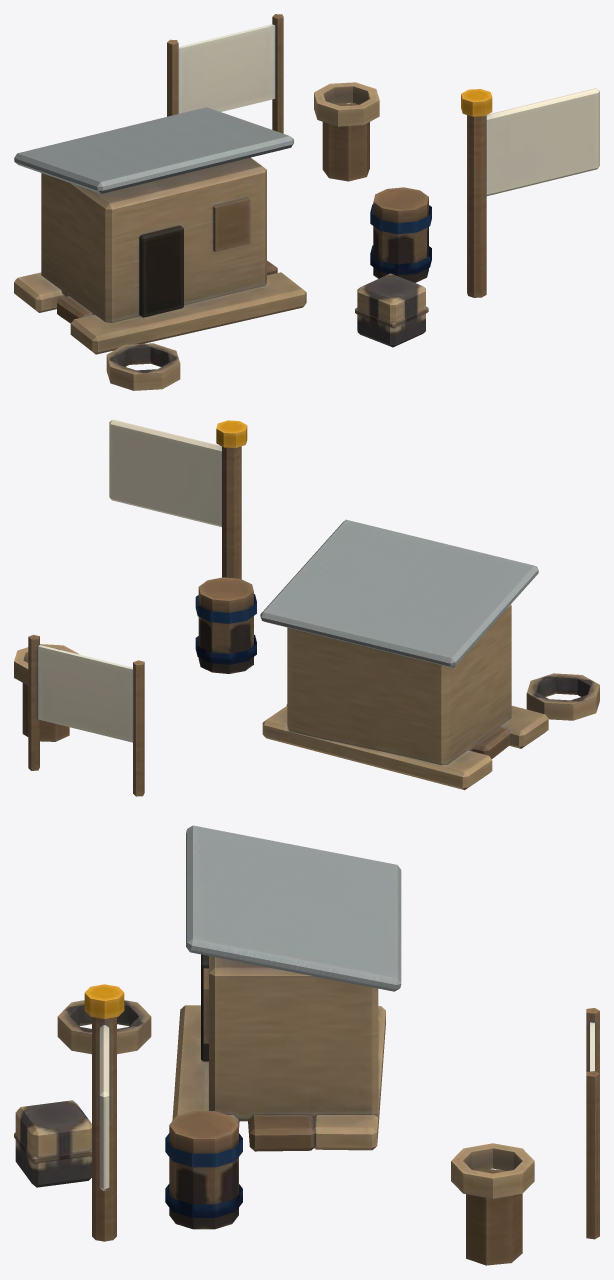
The model's file is harbor-1.glb.
3 renders of one model, top to bottom at view 1: azimuth 30°, elevation 25°; view 2: azimuth 150°, elevation 25°; view 3: azimuth 270°, elevation 25°, orthographic. The views are drawn at different scales.
Visible parts, largest first — view 1: harbor-1; view 2: harbor-1; view 3: harbor-1.
Part boxes in pixels (box(x1,y1,x2,y2)): harbor-1: box(14, 14, 599, 390); harbor-1: box(14, 419, 599, 796); harbor-1: box(14, 825, 599, 1265).
Bounding box in the file's own units: 1.39 × 0.5405 × 1.18.
1 material, 1 textured.
